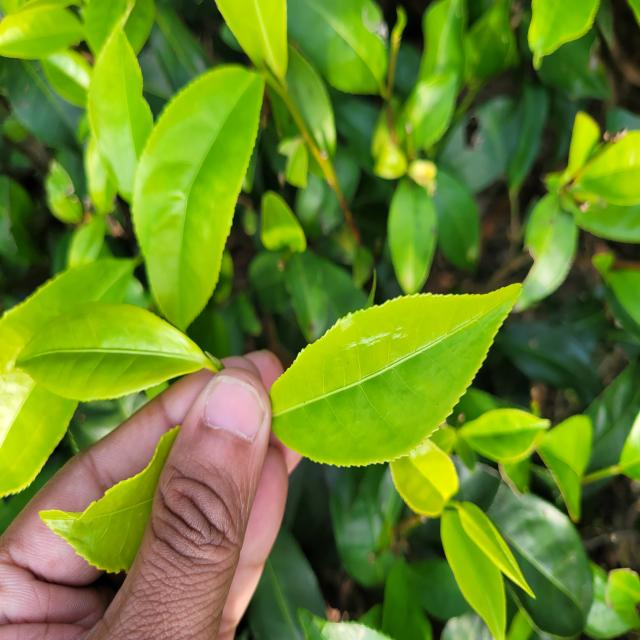Category B(2-4 days): (230, 238, 533, 503)
